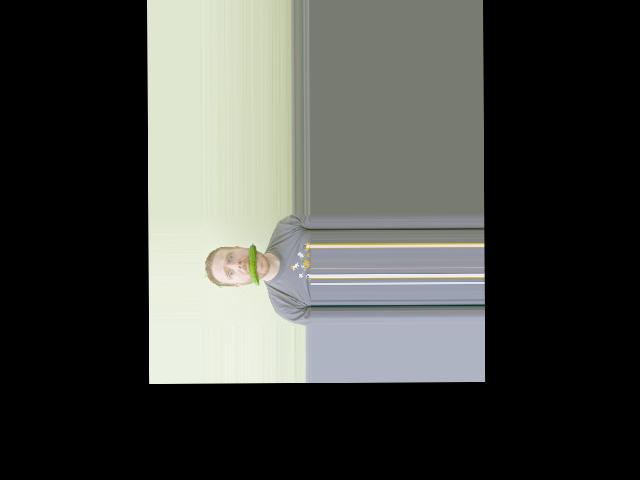cucumber: (248, 243, 259, 286)
